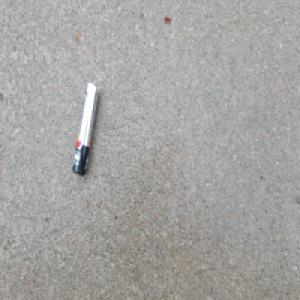Battery: (70, 79, 100, 176)
